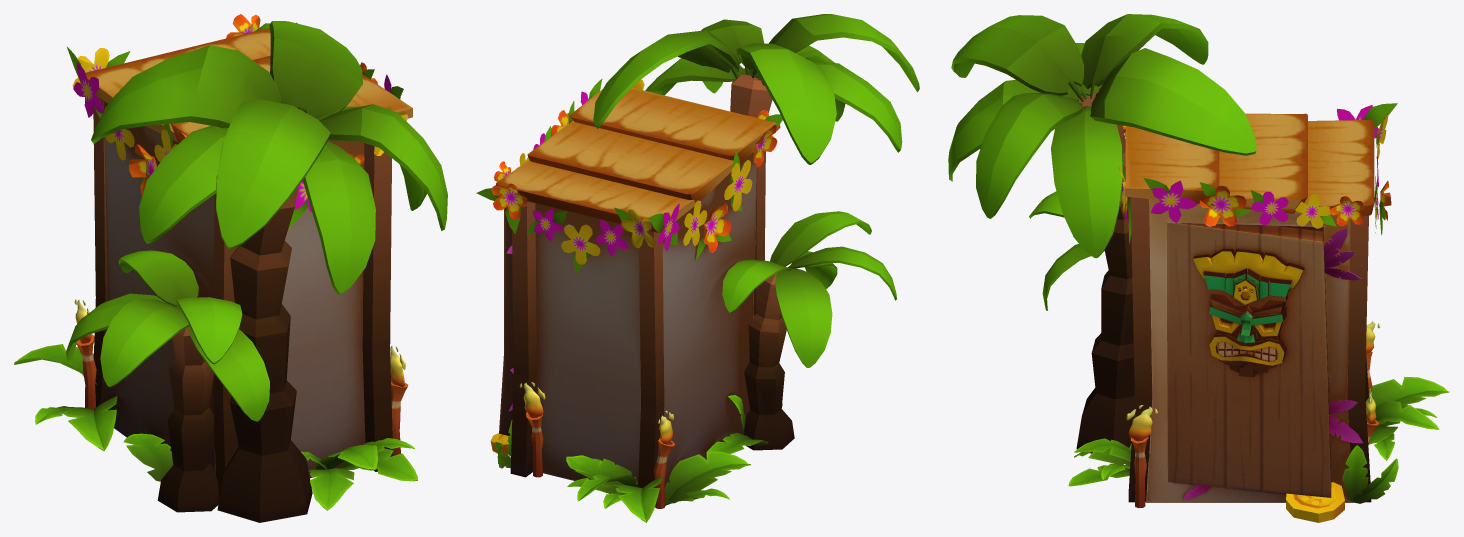
The model's file is Vault Tropical.obj.
The picture shows the model from 3 angles, left to right: view 1: azimuth 30°, elevation 25°; view 2: azimuth 150°, elevation 25°; view 3: azimuth 270°, elevation 25°; orthographic projection. The views are drawn at different scales.
Parts seen in each view (by area): view 1: VaultTropical1; view 2: VaultTropical1; view 3: VaultTropical1.
Boxes of the visible parts, bbox=[...] form: VaultTropical1: bbox=[14, 14, 447, 522]; VaultTropical1: bbox=[476, 14, 919, 522]; VaultTropical1: bbox=[948, 14, 1449, 522].
Bounding box in the file's own units: 12.83 × 15.66 × 17.42.
Materials: 1 (1 with a texture image).
